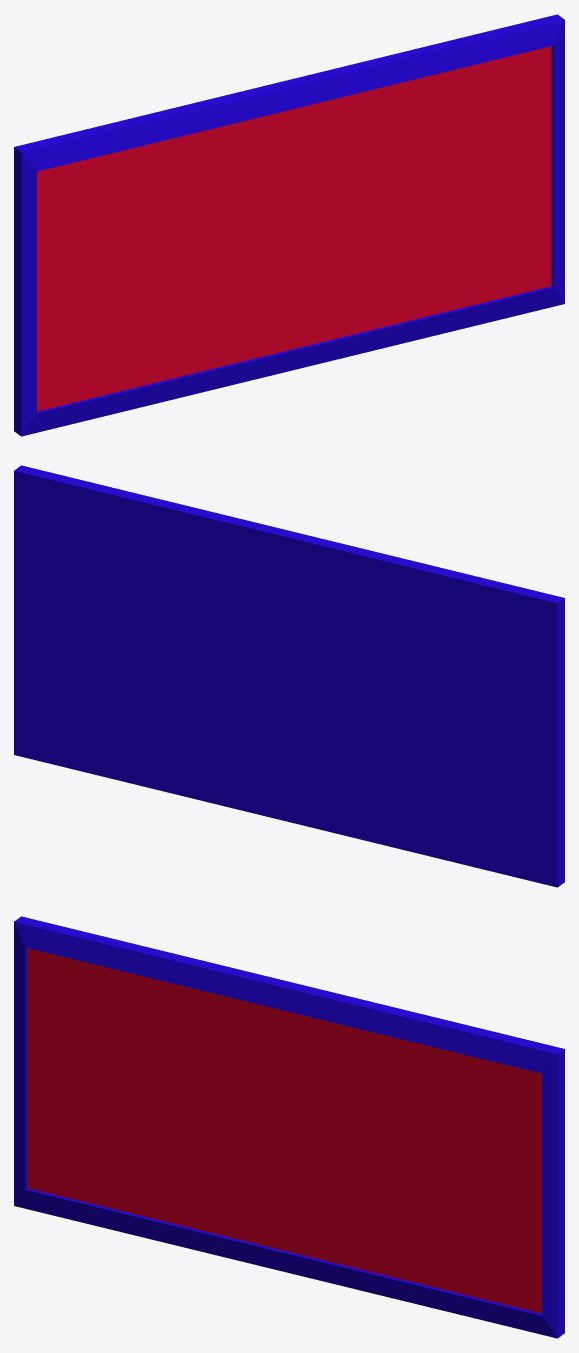
The model's file is BlankWall3x1UVID.fbx.
3 renders of one model, top to bottom at view 1: azimuth 30°, elevation 25°; view 2: azimuth 150°, elevation 25°; view 3: azimuth 330°, elevation 25°, orthographic.
Parts seen in each view (by area): view 1: Wall3.004; view 2: Wall3.004; view 3: Wall3.004.
Part boxes in pixels (box(x1,y1,x2,y2)): Wall3.004: box(14, 14, 564, 436); Wall3.004: box(14, 465, 564, 887); Wall3.004: box(14, 916, 564, 1338).
Size of the model in its own units: 198 by 98.79 by 5.99.
